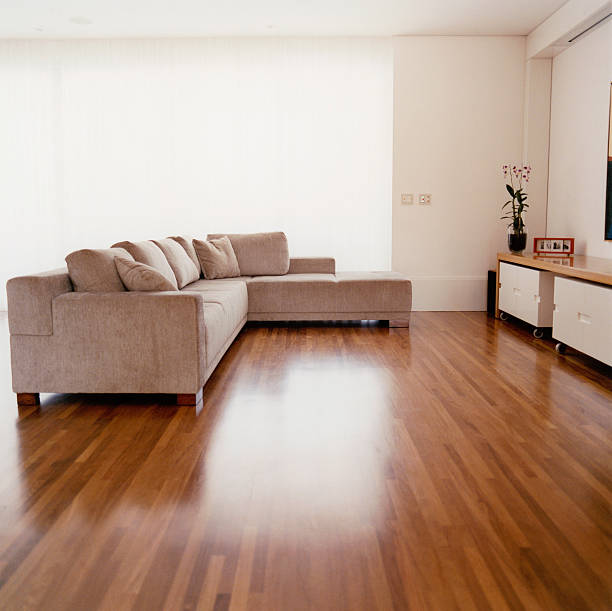flower vase: (500, 154, 531, 252)
sofa: (3, 226, 413, 413)
